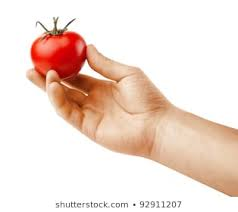tomato: (30, 31, 87, 80)
